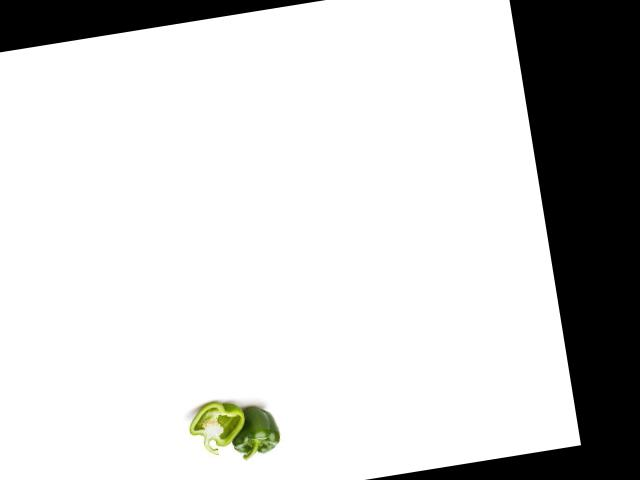bell_pepper: (183, 398, 252, 461)
